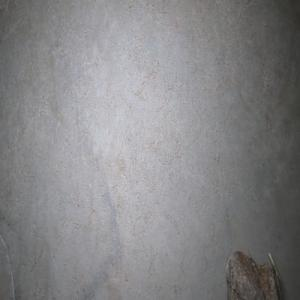Rock: (225, 250, 280, 300)
